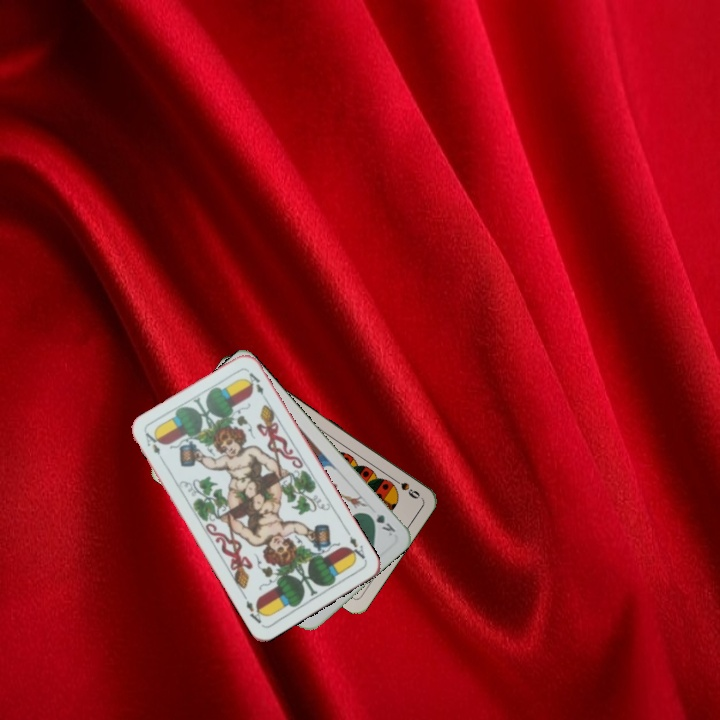EA: (141, 428, 167, 465), (343, 527, 368, 563)
GK: (363, 509, 398, 539)
S9: (387, 473, 423, 502)
